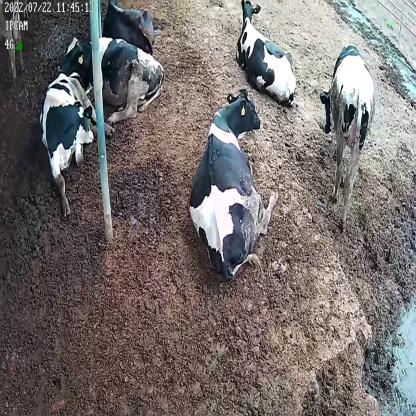cow: (189, 85, 277, 281), (40, 64, 115, 218), (54, 34, 164, 124), (320, 45, 376, 219), (234, 0, 296, 109), (103, 0, 159, 53)
